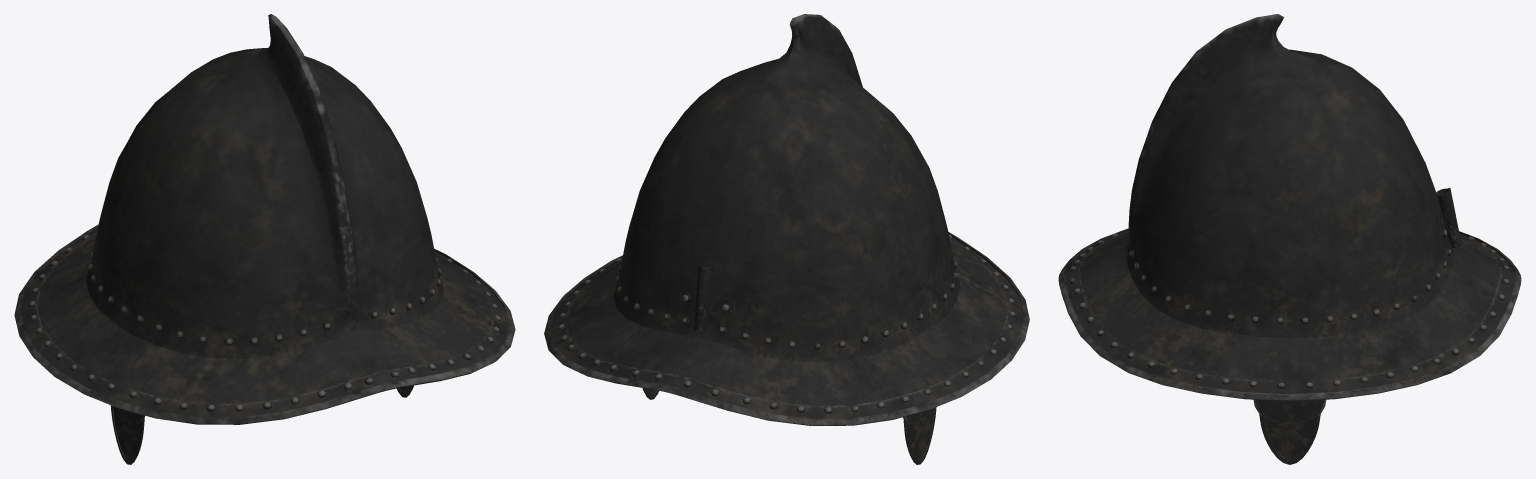
3 renders of one model, left to right at view 1: azimuth 30°, elevation 25°; view 2: azimuth 150°, elevation 25°; view 3: azimuth 270°, elevation 25°, orthographic. The views are drawn at different scales.
Parts seen in each view (by area): view 1: Helm, line, buttons (×2), plate.002, plate; view 2: Helm, line, buttons (×2), Cylinder.001, plate.002, Plane; view 3: Helm, line, buttons (×2), plate.002, plate.001, Cylinder.001, plate.
Boxes of the visible parts, <box> form: Helm: <box>37,14,492,404</box>; line: <box>14,225,515,424</box>; buttons (×2): <box>29,235,500,411</box>; plate.002: <box>113,386,408,458</box>; plate: <box>110,385,413,464</box>; Helm: <box>566,14,1007,405</box>; line: <box>544,232,1029,425</box>; buttons (×2): <box>558,234,1015,413</box>; Cylinder.001: <box>694,266,713,331</box>; plate.002: <box>647,388,934,459</box>; Plane: <box>679,289,735,316</box>; Helm: <box>1079,14,1500,381</box>; line: <box>1058,228,1521,401</box>; buttons (×2): <box>1069,229,1509,388</box>; plate.002: <box>1264,417,1315,459</box>; plate.001: <box>1257,400,1322,422</box>; Cylinder.001: <box>1436,188,1461,247</box>; plate: <box>1259,414,1320,464</box>.
Size of the model in its own units: 1.94 by 1.85 by 2.
1 material, 1 textured.
